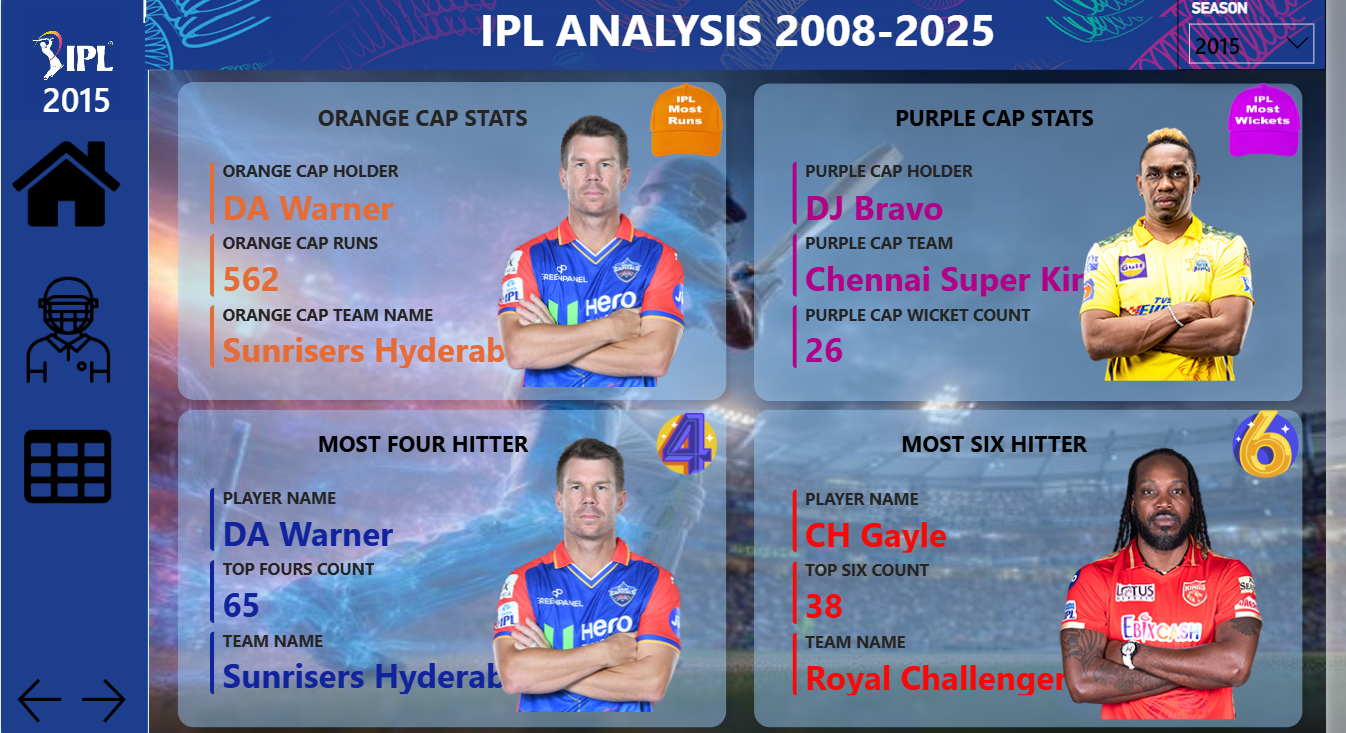

Layout of this report page (visuals, bound fields, positions):
{"tool":"powerbi","page":{"name":"VALUEABLE PLAYER","canvas":[1280,720],"ordinal":1},"visuals":[{"type":"shape","box":[160.2,74.6,551.5,328.9],"z":0},{"type":"shape","box":[716.6,75.8,551.5,328.9],"z":1000},{"type":"cardVisual","fields":{"Data":["ipl_matches_data.ORANGE CAP HOLDER","ipl_matches_data.ORANGE CAP RUNS","ipl_matches_data.ORANGE CAP TEAM NAME"]},"box":[185.9,145.5,365.6,233.6],"z":2000},{"type":"slicer","fields":{"Values":["ipl_matches_data.season"]},"box":[0,0,160.2,74.6],"z":3000},{"type":"shape","box":[0,0,143.1,720.2],"z":4000},{"type":"image","box":[140.6,0,1139.7,51.4],"z":5000},{"type":"image","box":[140.3,23.2,1139.7,51.4],"z":6000},{"type":"textbox","box":[143.1,0,1137.2,74.6],"z":7000},{"type":"shape","box":[160.2,391.3,551.5,328.9],"z":8000},{"type":"shape","box":[716.6,391.3,551.5,328.9],"z":9000},{"type":"textbox","box":[301.2,100,267.5,45],"z":10000},{"type":"cardVisual","fields":{"Data":["ipl_matches_data.ORANGE CAP IMAGE"]},"box":[369.3,91.7,410.9,306.9],"z":11000},{"type":"image","box":[615.1,84.4,95.4,77],"z":12000},{"type":"cardVisual","fields":{"Data":["ipl_matches_data.PURPLE CAP HOLDER","ipl_matches_data.PURPLE CAP TEAM","ipl_matches_data.PURPLE CAP WICKET COUNT"]},"box":[748.4,145.5,365.6,233.6],"z":13000},{"type":"cardVisual","fields":{"Data":["ipl_matches_data.PURPLE CAP IMAGE"]},"box":[973.4,100.3,306.9,291],"z":14000},{"type":"image","box":[1172.7,84.4,95.4,77],"z":15000},{"type":"textbox","box":[858.4,100.3,216.4,45.2],"z":16000},{"type":"cardVisual","fields":{"Data":["ipl_matches_data.TOP FOUR PLAYERS","ipl_matches_data.TOP FOURS COUNT","ipl_matches_data.TOP FOUR PLAYER TEAM NAME"]},"box":[185.9,461,365.6,233.6],"z":17000},{"type":"cardVisual","fields":{"Data":["ipl_matches_data.TOP FOUR PLAYERS IMAGE"]},"box":[363.8,402.5,411.2,308.8],"z":18000},{"type":"cardVisual","fields":{"Data":["ipl_matches_data.TOP six PLAYERS","ipl_matches_data.TOP six COUNT","ipl_matches_data.TOP six PLAYER TEAM NAME"]},"box":[748.4,462.2,365.6,233.6],"z":19000},{"type":"cardVisual","fields":{"Data":["ipl_matches_data.TOP six PLAYERS IMAGE"]},"box":[967.3,404.8,313,315.5],"z":20000},{"type":"textbox","box":[858.8,415,256.2,46.2],"z":21000},{"type":"textbox","box":[301.2,415,267.5,47.5],"z":22000},{"type":"image","box":[4.9,0,133.3,123.5],"z":23000},{"type":"cardVisual","fields":{"Data":["ipl_matches_data.IPL SEASON"]},"box":[12.2,47.7,130.8,105.2],"z":24000},{"type":"actionButton","box":[12.2,656.7,53.8,53.8],"z":25000},{"type":"actionButton","box":[72.1,656.7,68.5,53.8],"z":26000},{"type":"image","box":[12.2,121.1,103.9,127.2],"z":27000},{"type":"image","box":[0,273.9,132.1,102.7],"z":28000},{"type":"image","box":[12.2,414.5,106.4,84.4],"z":29000},{"type":"image","box":[628.6,405.4,68.8,59.1],"z":30000},{"type":"image","box":[1172.7,403,97.7,65.1],"z":31000},{"type":"slicer","fields":{"Values":["ipl_matches_data.season"]},"box":[1136.9,0,143.1,74.6],"z":32000}]}

Visuals, with their boxes on the page's 1280x720 design canvas (x1, y1, x2, y2). These are canvas units, not pixel positions in the 1346x733 screenshot, which may show the page scaled, cropped or inside an application window:
shape: [160, 75, 712, 404]
shape: [717, 76, 1268, 405]
cardVisual - ipl_matches_data.ORANGE CAP HOLDER x ipl_matches_data.ORANGE CAP RUNS: [186, 146, 552, 379]
slicer - ipl_matches_data.season: [0, 0, 160, 75]
shape: [0, 0, 143, 720]
image: [141, 0, 1280, 51]
image: [140, 23, 1280, 75]
textbox: [143, 0, 1280, 75]
shape: [160, 391, 712, 720]
shape: [717, 391, 1268, 720]
textbox: [301, 100, 569, 145]
cardVisual - ipl_matches_data.ORANGE CAP IMAGE: [369, 92, 780, 399]
image: [615, 84, 710, 161]
cardVisual - ipl_matches_data.PURPLE CAP HOLDER x ipl_matches_data.PURPLE CAP TEAM: [748, 146, 1114, 379]
cardVisual - ipl_matches_data.PURPLE CAP IMAGE: [973, 100, 1280, 391]
image: [1173, 84, 1268, 161]
textbox: [858, 100, 1075, 146]
cardVisual - ipl_matches_data.TOP FOUR PLAYERS x ipl_matches_data.TOP FOURS COUNT: [186, 461, 552, 695]
cardVisual - ipl_matches_data.TOP FOUR PLAYERS IMAGE: [364, 402, 775, 711]
cardVisual - ipl_matches_data.TOP six PLAYERS x ipl_matches_data.TOP six COUNT: [748, 462, 1114, 696]
cardVisual - ipl_matches_data.TOP six PLAYERS IMAGE: [967, 405, 1280, 720]
textbox: [859, 415, 1115, 461]
textbox: [301, 415, 569, 462]
image: [5, 0, 138, 124]
cardVisual - ipl_matches_data.IPL SEASON: [12, 48, 143, 153]
actionButton: [12, 657, 66, 710]
actionButton: [72, 657, 141, 710]
image: [12, 121, 116, 248]
image: [0, 274, 132, 377]
image: [12, 414, 119, 499]
image: [629, 405, 697, 464]
image: [1173, 403, 1270, 468]
slicer - ipl_matches_data.season: [1137, 0, 1280, 75]
